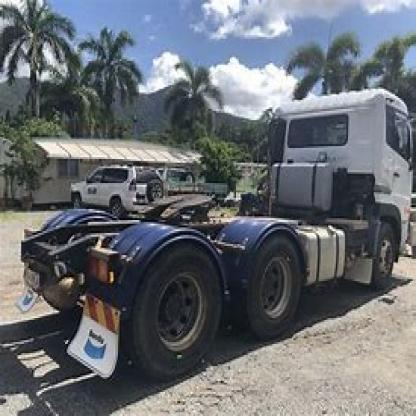dump_truck: (38, 74, 414, 373)
